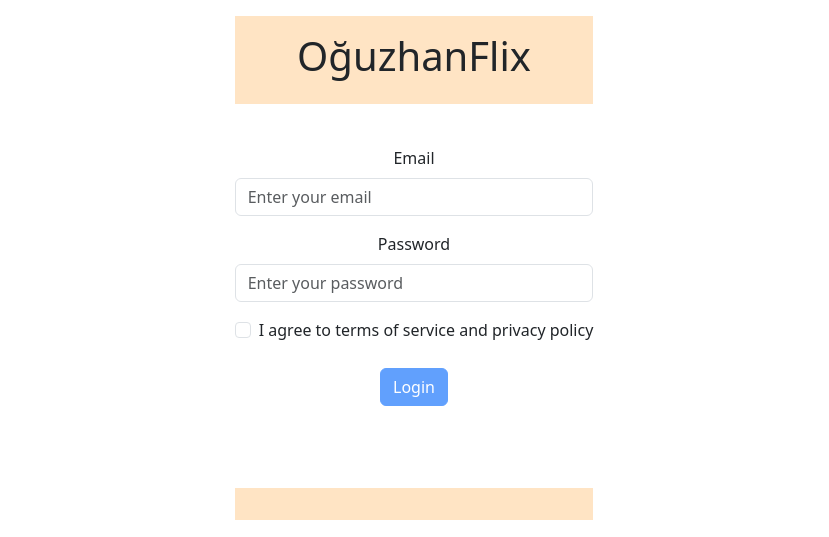
Login Form Tests › b) Hatalı durumlarda beklenen hata mesajları görünüyor ve buton disabled kalıyor › Email ve Parola dogru, sartlar kabul edilmemis
In the field named "email": (415, 197) left=235, top=178, right=594, bottom=216, type "valid@example.com"
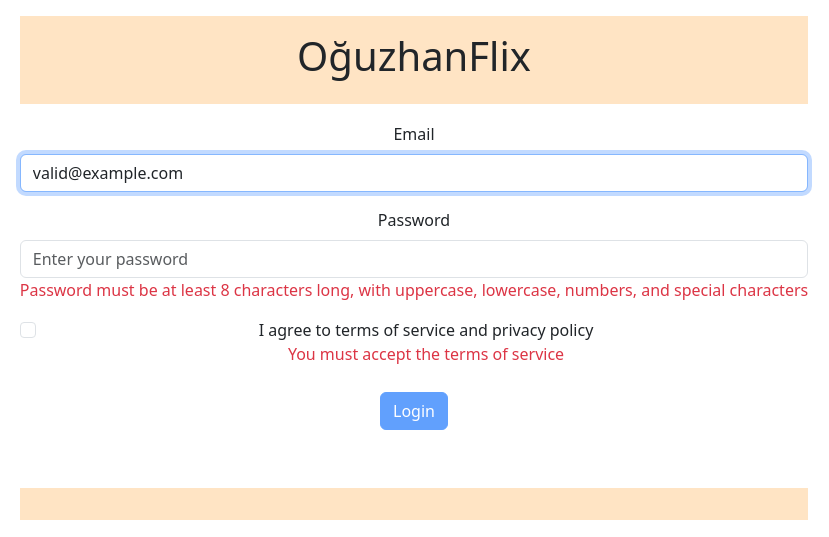
In the password field named "password": (414, 259) left=20, top=240, right=808, bottom=278, type "Password1!"
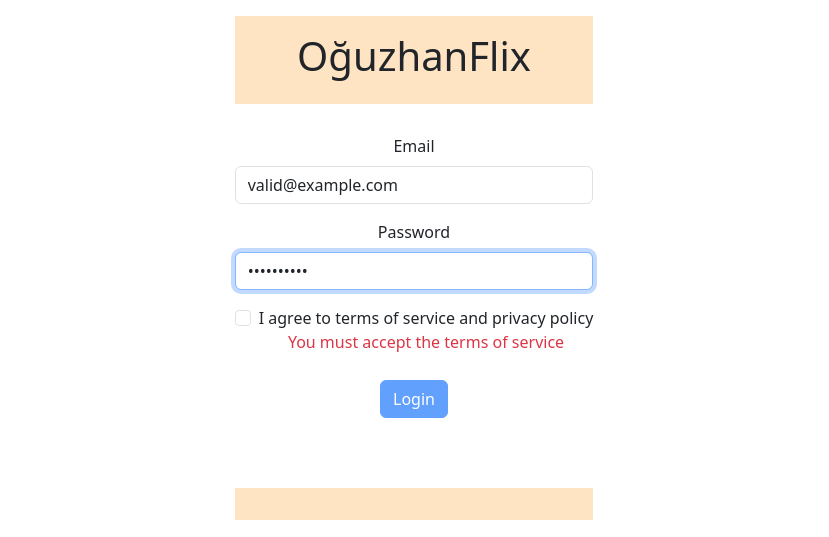
Check: the button with test id "login-button" is disabled, box left=380, top=380, right=448, bottom=418
Check: the text with test id "password-error-text" is gone
